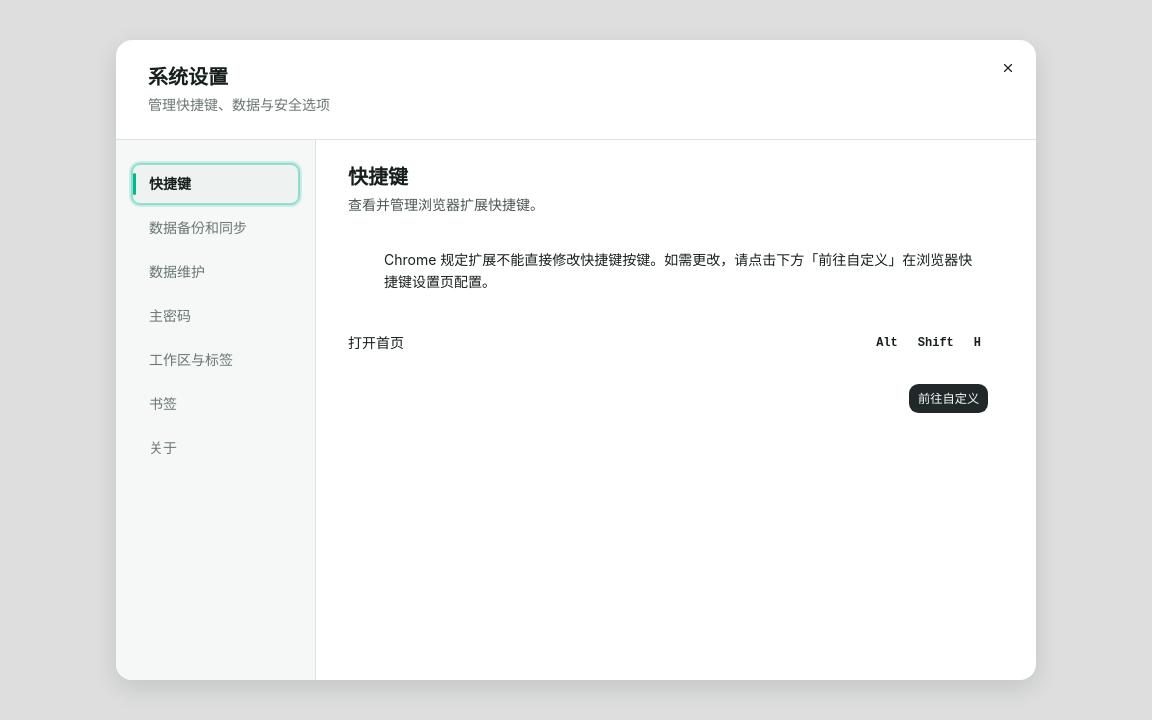
Test: SettingsModal（系统设置中心） › 点击「主密码」→ 切换到主密码分区
Expected: the button "前往自定义" is shown, x1=908 y1=383 x2=989 y2=414
What coordinates should you click on to do the following:
click the tab "主密码"
I would click on:
 (216, 316)
Its box is x1=132 y1=296 x2=299 y2=336.
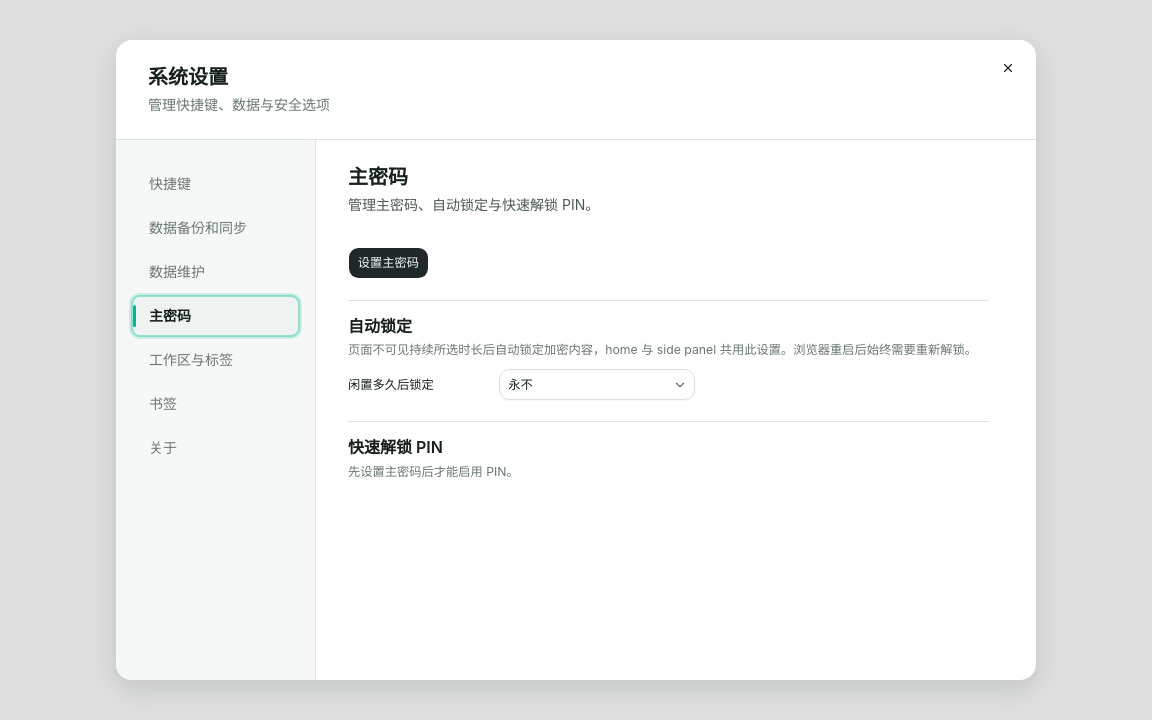
Expected: the button "设置主密码" is shown, x1=348 y1=247 x2=429 y2=278
